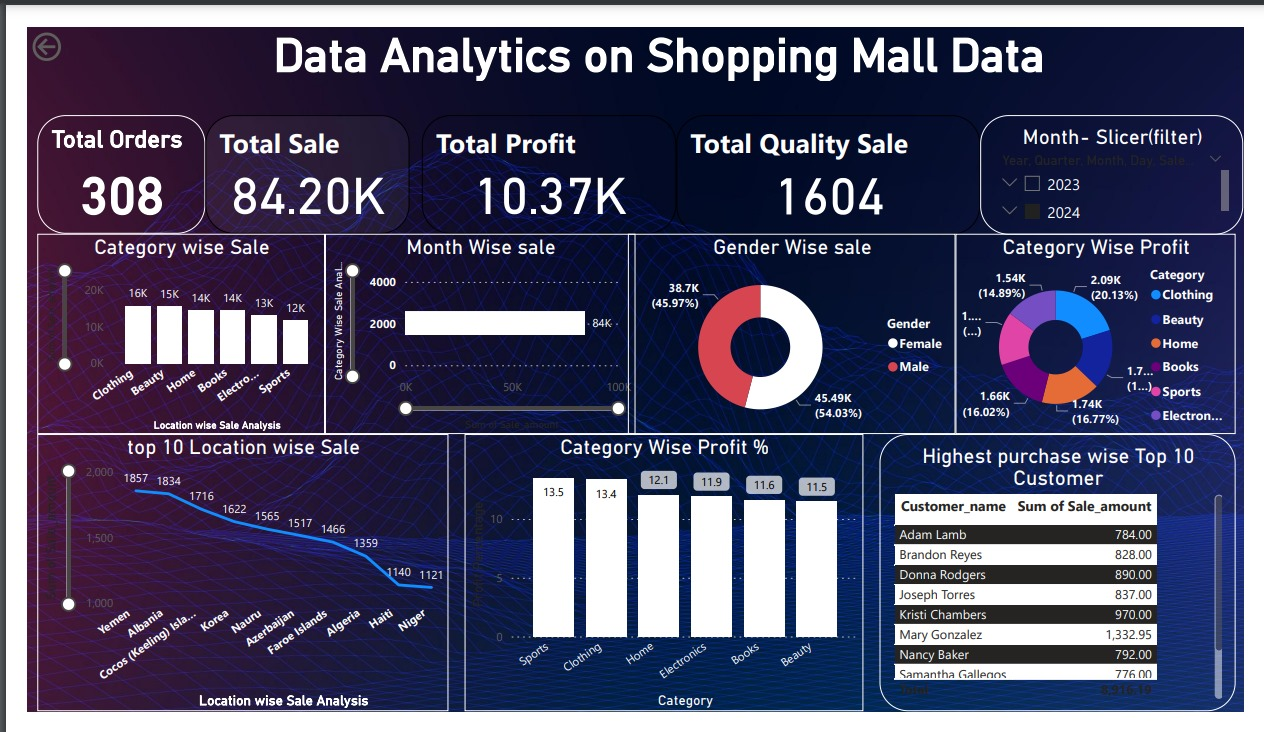

What the dashboard file says about the page in this screenshot:
{"tool":"powerbi","page":{"name":"Page 1","canvas":[1280,720],"ordinal":0},"visuals":[{"type":"card","title":"Total Orders ","fields":{"Values":["shopping_mall_data.Order_id"]},"box":[10,91.7,176.7,125],"z":0},{"type":"card","title":"Total Sale","fields":{"Values":["shopping_mall_data.Sale_amount"]},"box":[186.7,91.7,215,125],"z":1000},{"type":"card","title":"Total Profit ","fields":{"Values":["shopping_mall_data.Profit"]},"box":[415,91.7,268.3,125],"z":2000},{"type":"card","title":"Total Quality Sale ","fields":{"Values":["shopping_mall_data.Quantity"]},"box":[683.3,91.7,320,126.7],"z":3000},{"type":"clusteredColumnChart","title":"Category wise Sale","fields":{"Category":["shopping_mall_data.Category"],"Y":["shopping_mall_data.Sale_amount"]},"box":[10,216.7,303.3,211.7],"z":4000},{"type":"barChart","title":"Month Wise sale","fields":{"Y":["shopping_mall_data.Sale_amount"],"Category":["shopping_mall_data.Date.Variation.Date Hierarchy.Year","shopping_mall_data.Date.Variation.Date Hierarchy.Quarter","shopping_mall_data.Date.Variation.Date Hierarchy.Month","shopping_mall_data.Date.Variation.Date Hierarchy.Day"]},"box":[313.3,216.7,326.7,211.7],"z":5000},{"type":"slicer","title":"Month- Slicer(filter)","fields":{"Values":["shopping_mall_data.Date.Variation.Date Hierarchy.Year","shopping_mall_data.Date.Variation.Date Hierarchy.Quarter","shopping_mall_data.Date.Variation.Date Hierarchy.Month","shopping_mall_data.Date.Variation.Date Hierarchy.Day","shopping_mall_data.Sale_amount"]},"box":[1003.3,91.7,276.7,126.7],"z":6000},{"type":"donutChart","title":"Gender Wise sale ","fields":{"Y":["shopping_mall_data.Sale_amount"],"Category":["shopping_mall_data.Gender"]},"box":[631.7,216.7,345,211.7],"z":7000},{"type":"pieChart","title":"Category  Wise Profit","fields":{"Y":["shopping_mall_data.Profit"],"Category":["shopping_mall_data.Category"]},"box":[976.7,216.7,295,211.7],"z":8000},{"type":"lineStackedColumnComboChart","title":"Category  Wise Profit %","fields":{"Category":["shopping_mall_data.Category"],"Y":["shopping_mall_data.Profit Percentage"]},"box":[460,428.3,420,291.7],"z":9000},{"type":"tableEx","title":"Highest purchase wise  Top  10 Customer ","fields":{"Values":["shopping_mall_data.Customer_name","shopping_mall_data.Sale_amount"]},"box":[896.7,428.3,375,291.7],"z":10000},{"type":"actionButton","box":[0,0,100,40],"z":11000},{"type":"textbox","title":"Data Analytics on Shopping Mall Data","box":[50,0,1230,91.7],"z":12000},{"type":"lineChart","title":"top 10 Location wise Sale","fields":{"Category":["shopping_mall_data.Location"],"Y":["shopping_mall_data.Sale_amount"]},"box":[10,428.3,433.3,291.7],"z":13000}]}

Visuals, with their boxes in screenshot pixels (x1, y1, x2, y2), scaled from the page's 1280x720 canvas onto the 1264x732 screenshot:
"Total Orders " card: bbox=[10, 93, 184, 220]
"Total Sale" card: bbox=[184, 93, 397, 220]
"Total Profit " card: bbox=[410, 93, 675, 220]
"Total Quality Sale " card: bbox=[675, 93, 991, 222]
"Category wise Sale" clusteredColumnChart: bbox=[10, 220, 309, 436]
"Month Wise sale" barChart: bbox=[309, 220, 632, 436]
"Month- Slicer(filter)" slicer: bbox=[991, 93, 1263, 222]
"Gender Wise sale " donutChart: bbox=[624, 220, 964, 436]
"Category  Wise Profit" pieChart: bbox=[964, 220, 1256, 436]
"Category  Wise Profit %" lineStackedColumnComboChart: bbox=[454, 435, 869, 731]
"Highest purchase wise  Top  10 Customer " tableEx: bbox=[885, 435, 1256, 731]
actionButton: bbox=[0, 0, 99, 41]
"Data Analytics on Shopping Mall Data" textbox: bbox=[49, 0, 1263, 93]
"top 10 Location wise Sale" lineChart: bbox=[10, 435, 438, 731]
